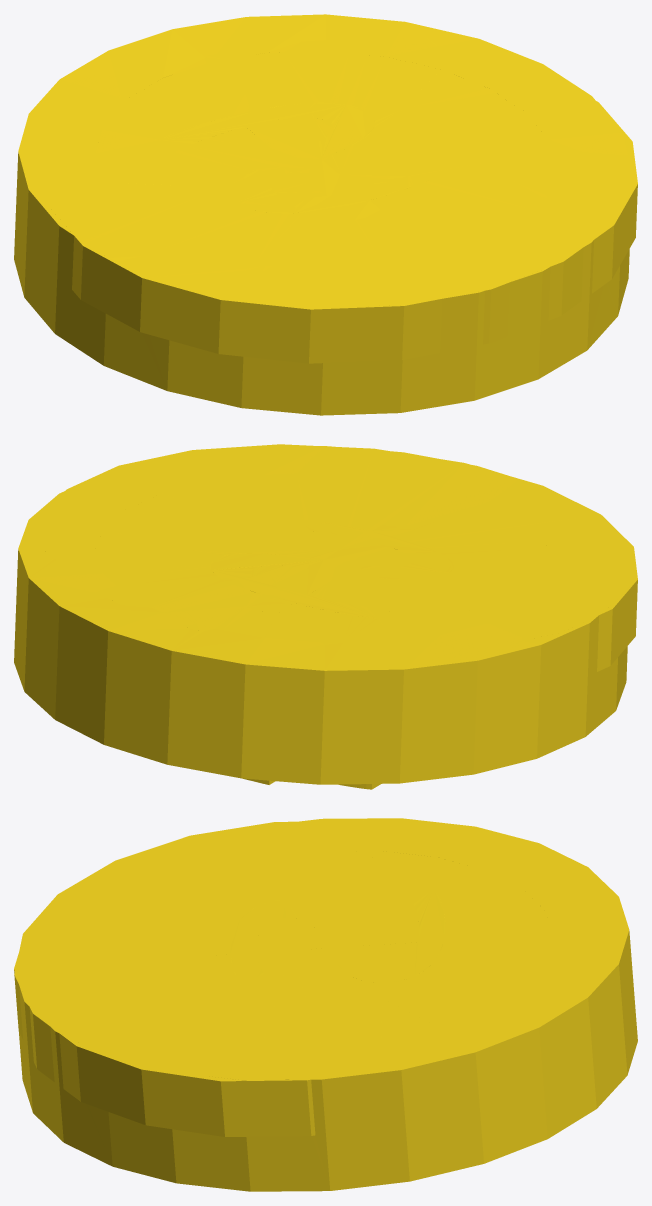
Rendered from tinker.obj.
The picture shows the model from 3 angles, top to bottom: view 1: azimuth 30°, elevation 25°; view 2: azimuth 150°, elevation 25°; view 3: azimuth 270°, elevation 25°; orthographic projection.
Parts seen in each view (by area): view 1: obj_0; view 2: obj_0; view 3: obj_0.
Part boxes in pixels (left/top/right/bottom): obj_0: left=14, top=14, right=637, bottom=415; obj_0: left=14, top=444, right=637, bottom=789; obj_0: left=14, top=818, right=637, bottom=1191.
Size of the model in its own units: 10 by 3.48 by 10.11.
